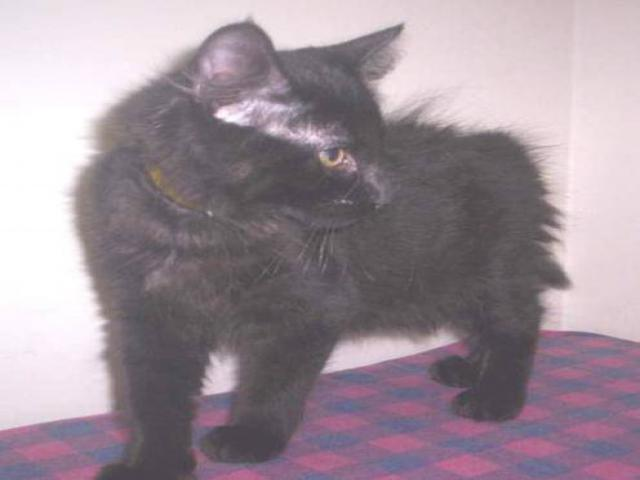cat: (63, 11, 578, 472)
